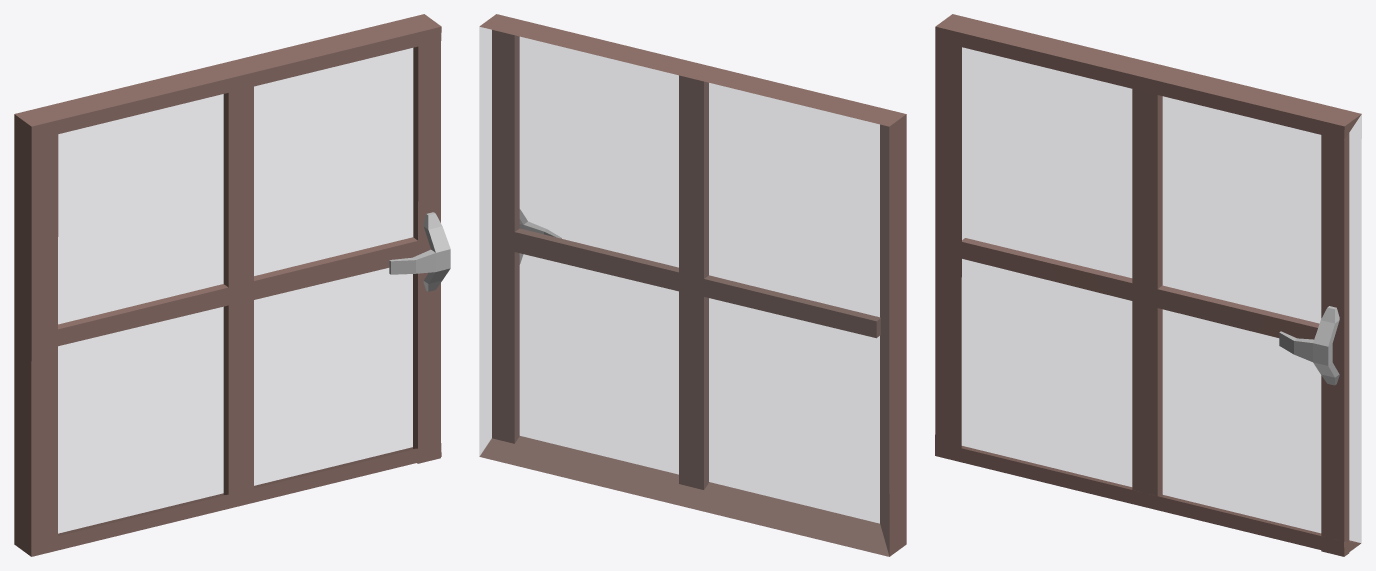
Rendered from Atelier_modular_window_left.fbx.
3 views of the same model, side by side, from view 1: azimuth 30°, elevation 25°; view 2: azimuth 150°, elevation 25°; view 3: azimuth 330°, elevation 25° (orthographic).
Visible parts, largest first — view 1: Atelier_modular_window_left; view 2: Atelier_modular_window_left; view 3: Atelier_modular_window_left.
Part boxes in pixels (x1,y1,x2,y2): Atelier_modular_window_left: [14, 14, 450, 556]; Atelier_modular_window_left: [479, 14, 906, 556]; Atelier_modular_window_left: [935, 14, 1361, 556].
Size of the model in its own units: 122 by 122 by 15.53.
3 materials, 1 textured.
